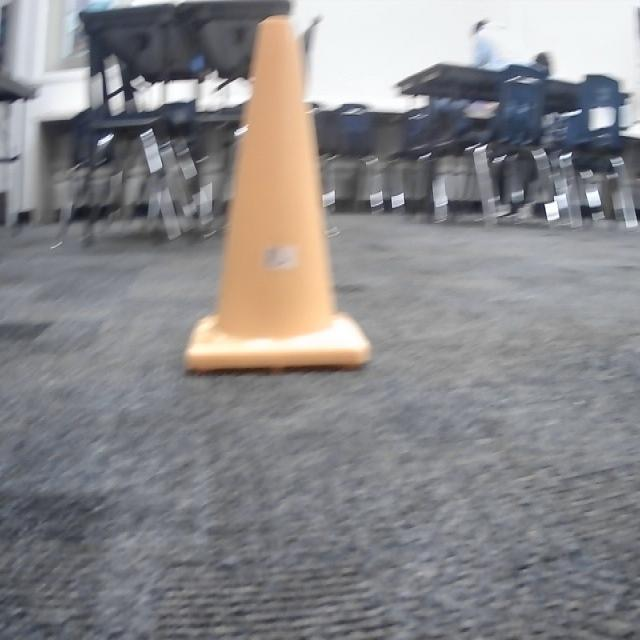cone: (178, 10, 380, 378)
